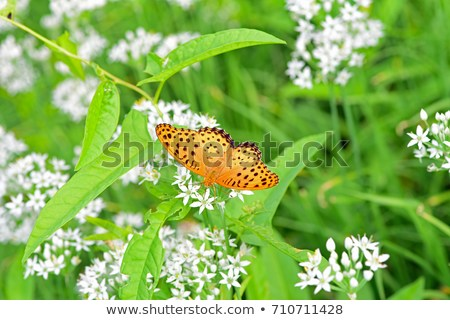Argyreus hyperbius: (148, 118, 279, 197)
butterfly: (150, 120, 281, 199)
